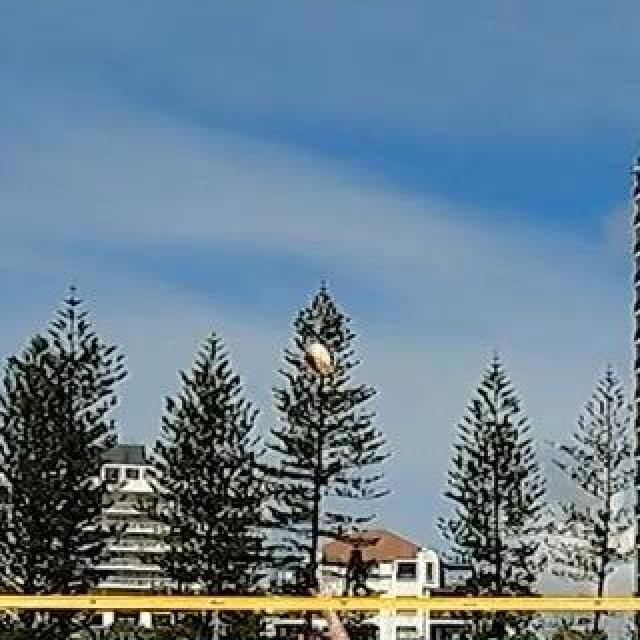volleyball: (306, 344, 332, 374)
